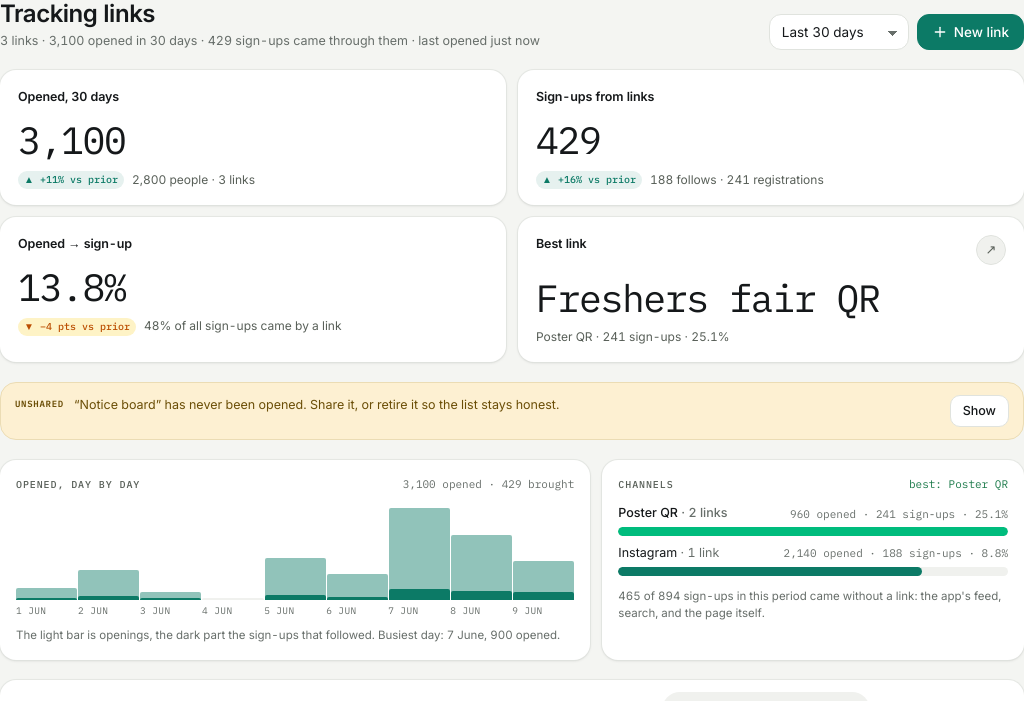
Scenario: tracking links › refuses a link with no name, and an event link with no event
Expected: the text "Opened, 30 days" is shown, [18,88,119,107]
Click the button "New link" at (970, 32), box [917,14,1023,50]
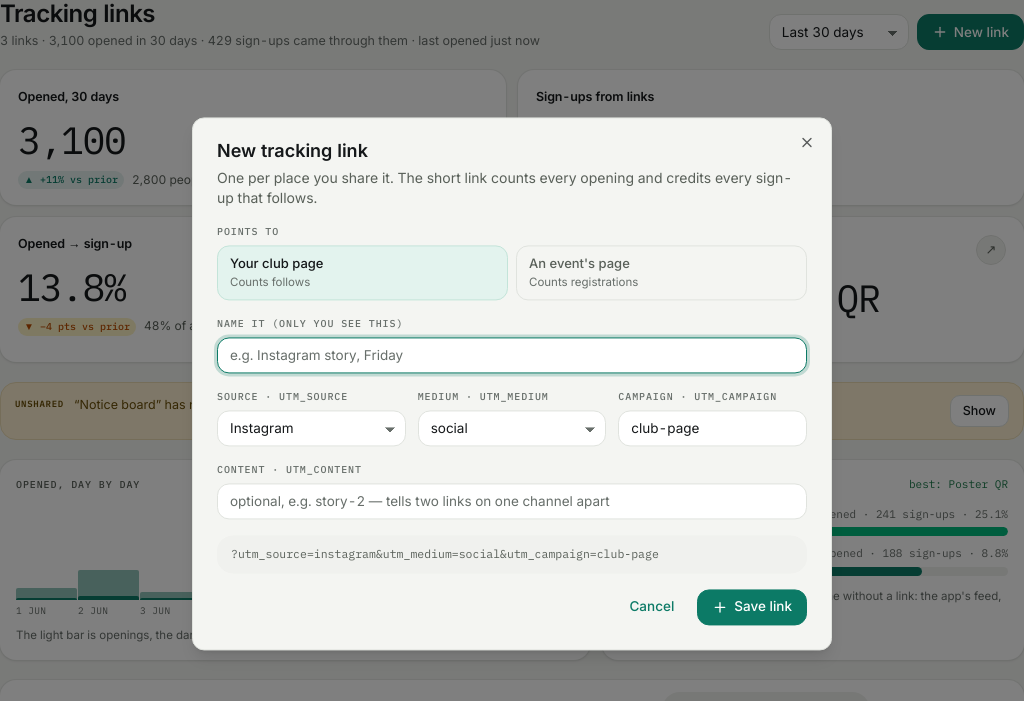
Click the radio button labelled "An event's page Counts registrations" at (579, 263), box [516,245,807,300]
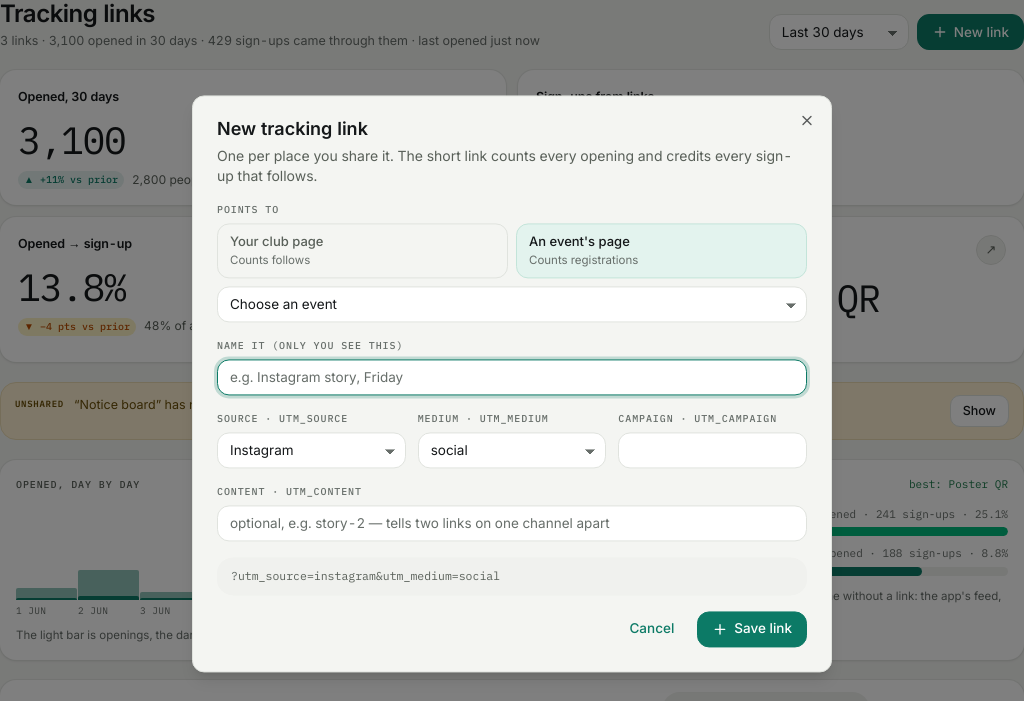
Click the button "Save link" at (752, 630), box [697,612,807,648]
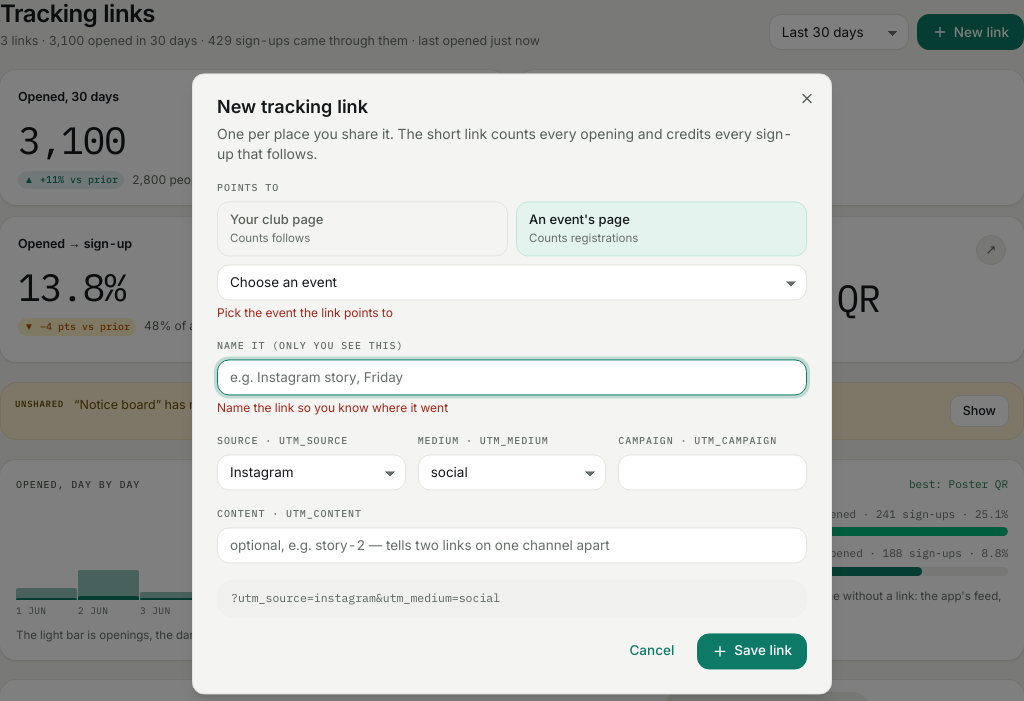
Expected: the text "Name the link so you know where it went" is shown, [217,400,448,415]
Expected: the text "Pick the event the link points to" is shown, [217,305,393,320]
